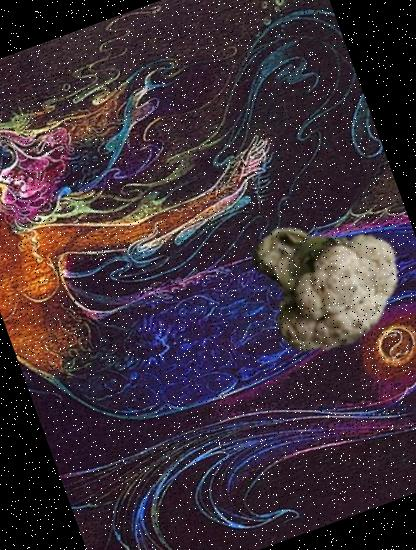Cauliflower: (224, 188, 414, 378)
